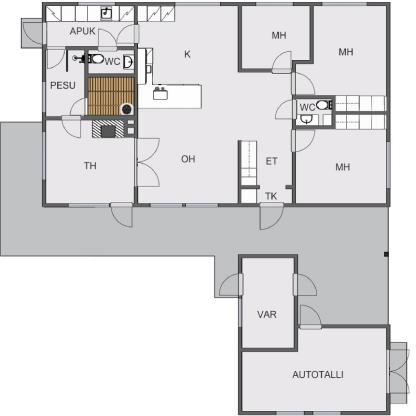door: (132, 138, 162, 188), (385, 350, 411, 396), (290, 273, 324, 299), (216, 272, 244, 299), (260, 201, 285, 231), (114, 22, 141, 49), (299, 304, 323, 332), (110, 202, 134, 228), (290, 71, 315, 95), (275, 98, 298, 124), (22, 22, 48, 44), (96, 29, 120, 52), (60, 117, 84, 140), (292, 130, 316, 152), (46, 46, 65, 71), (274, 50, 290, 74), (69, 100, 89, 116)
window: (384, 141, 392, 188), (174, 1, 220, 8), (77, 1, 114, 9), (184, 201, 216, 210), (254, 1, 292, 7), (322, 2, 365, 7), (66, 203, 108, 208), (277, 409, 304, 416), (314, 409, 340, 416), (40, 82, 46, 110), (237, 298, 243, 324), (150, 203, 181, 208), (42, 132, 44, 180)
zone: (2, 121, 389, 324), (137, 6, 291, 202), (240, 325, 386, 412), (292, 4, 386, 94), (296, 117, 386, 204), (46, 119, 134, 202), (240, 258, 294, 346), (242, 4, 311, 69), (47, 6, 134, 47), (46, 48, 86, 116), (87, 76, 133, 114), (86, 47, 133, 72), (297, 97, 332, 125)
